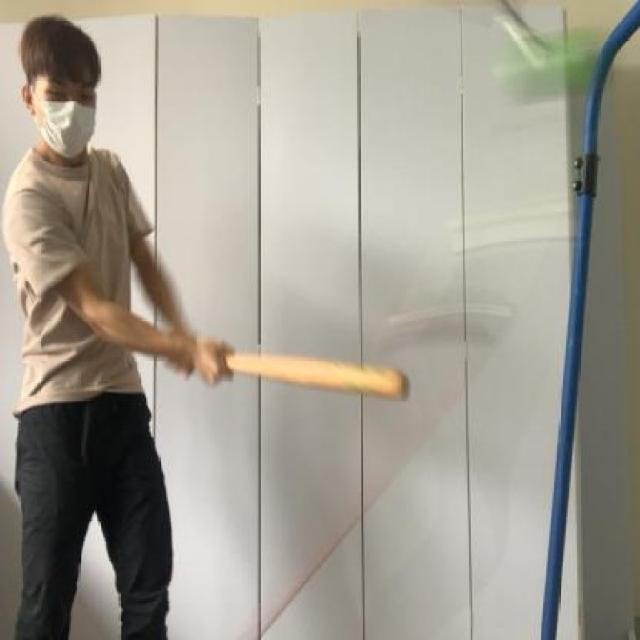baseball: (490, 29, 598, 105)
